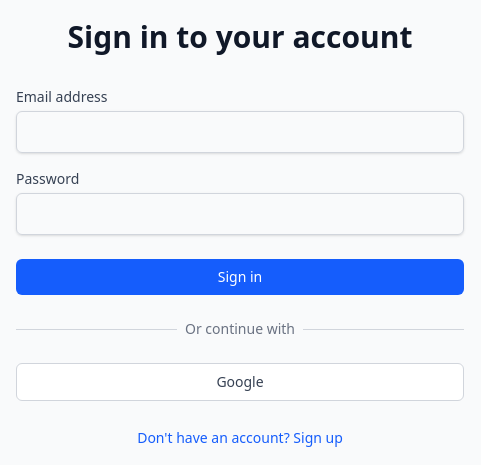
Test: LoginView › login/register toggle › switches to register mode when toggle is clicked
What coordinates should you click on to do the following:
click the button "Don't have an account? Sign up"
I would click on:
 (240, 438)
Its box is x1=137 y1=428 x2=343 y2=448.
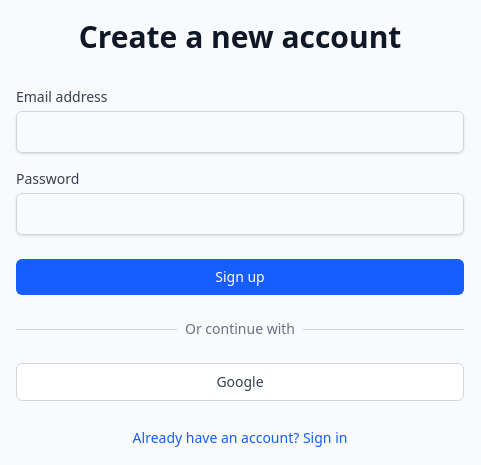
Now the heading "Create a new account" is shown, box x1=79 y1=16 x2=401 y2=57
Now the button "Sign up" is shown, box x1=16 y1=259 x2=464 y2=295
Now the button "Already have an account? Sign in" is shown, box x1=133 y1=428 x2=347 y2=448
